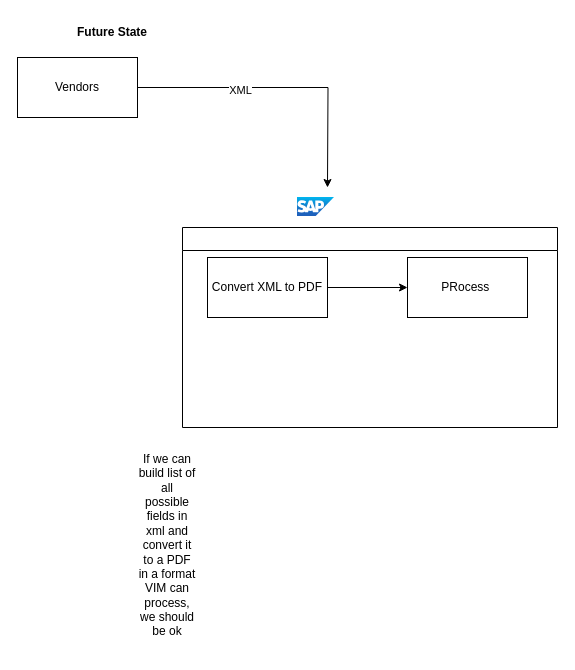
The diagram is 575 pixels wide and 670 high, and some of its shapes have lost their labels. Each missing label, with the centre of its shape:
"S/4HANA" belongs at point (315, 206).
"VIM" belongs at point (370, 327).
